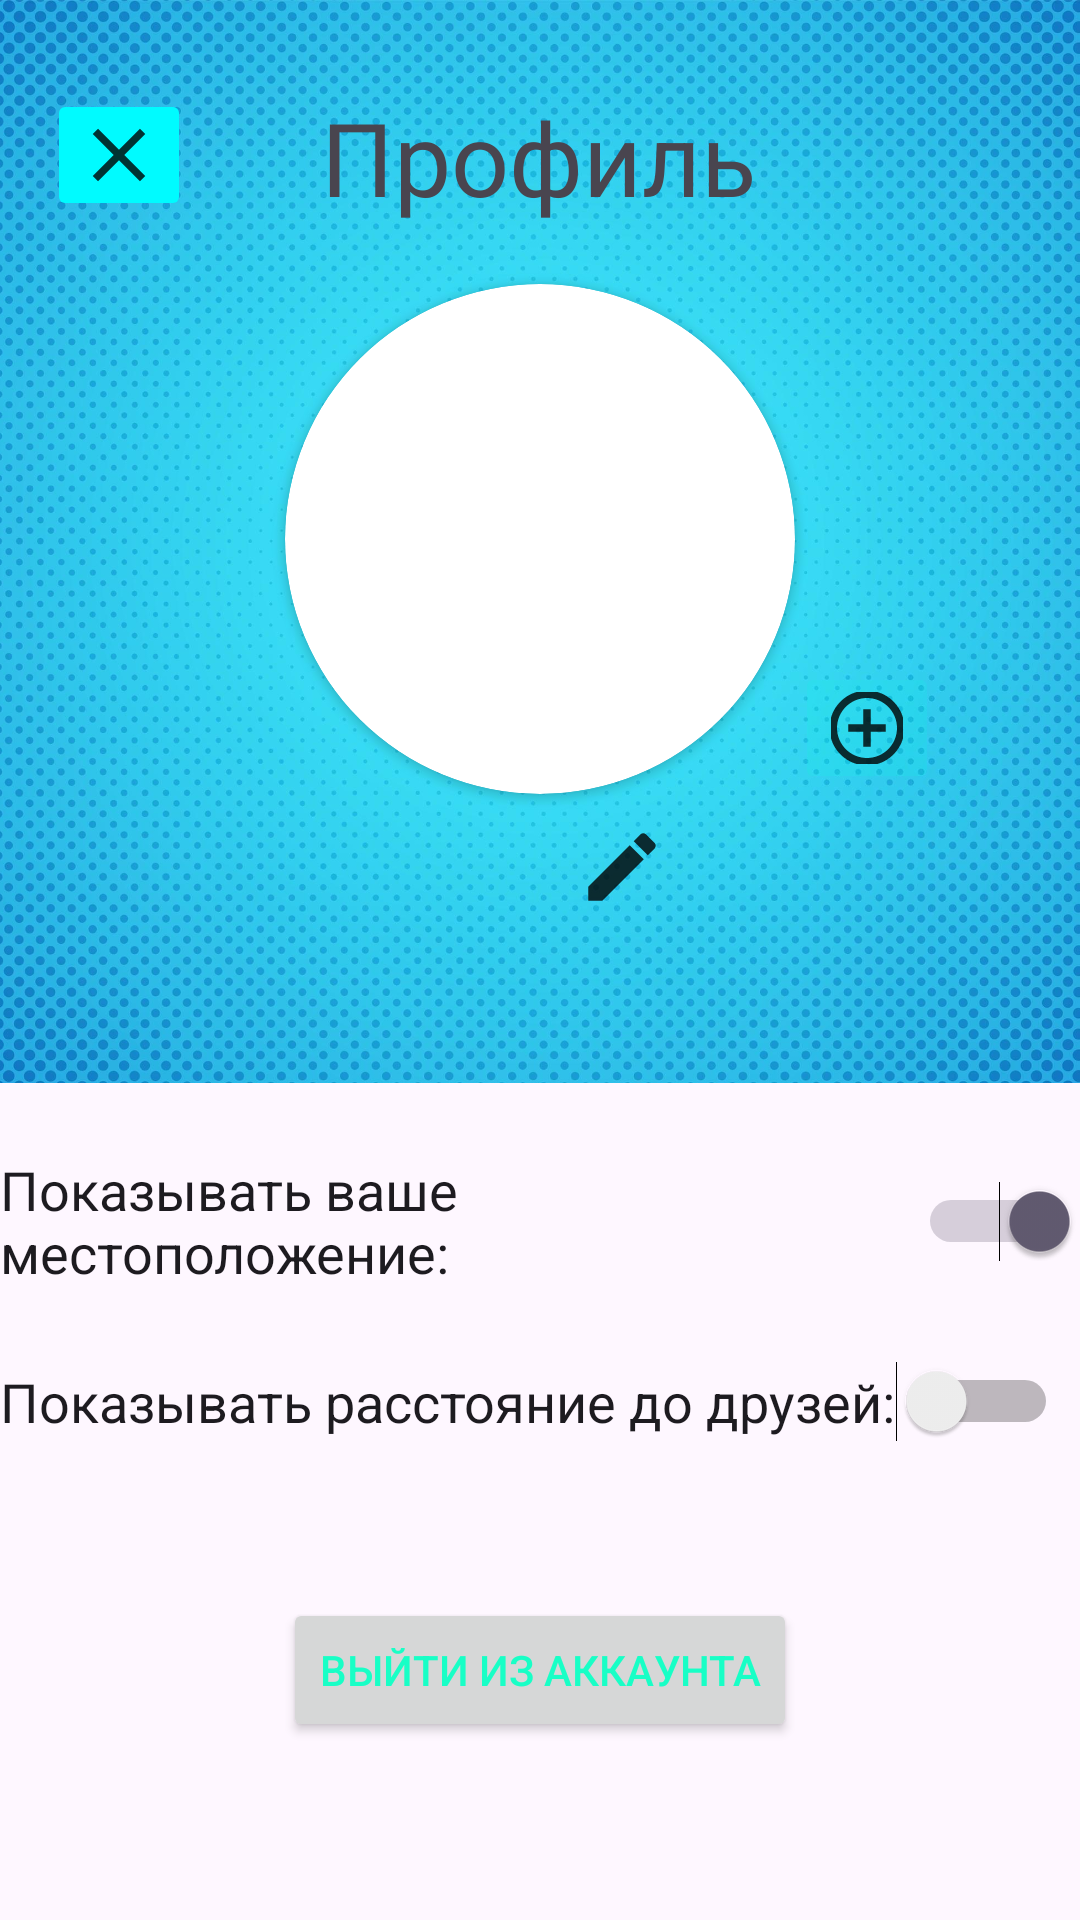

Icons on this 1080*1920 Android screen, each with its box as [x1=x1, y1=y1, x2=x2, y2=y2]:
close: [x1=47, y1=89, x2=191, y2=220]
